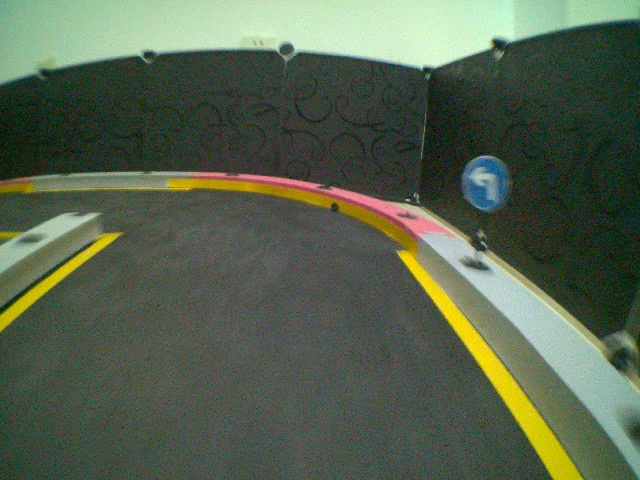turn: (457, 154, 512, 212)
